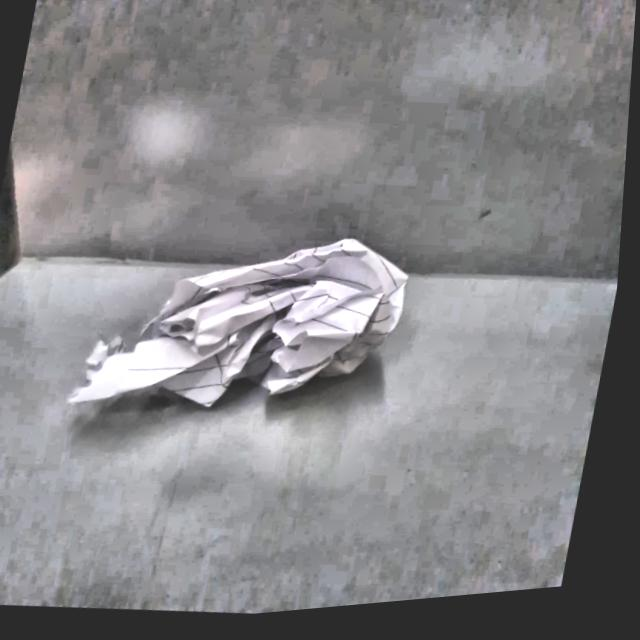Paper: (67, 208, 415, 445)
